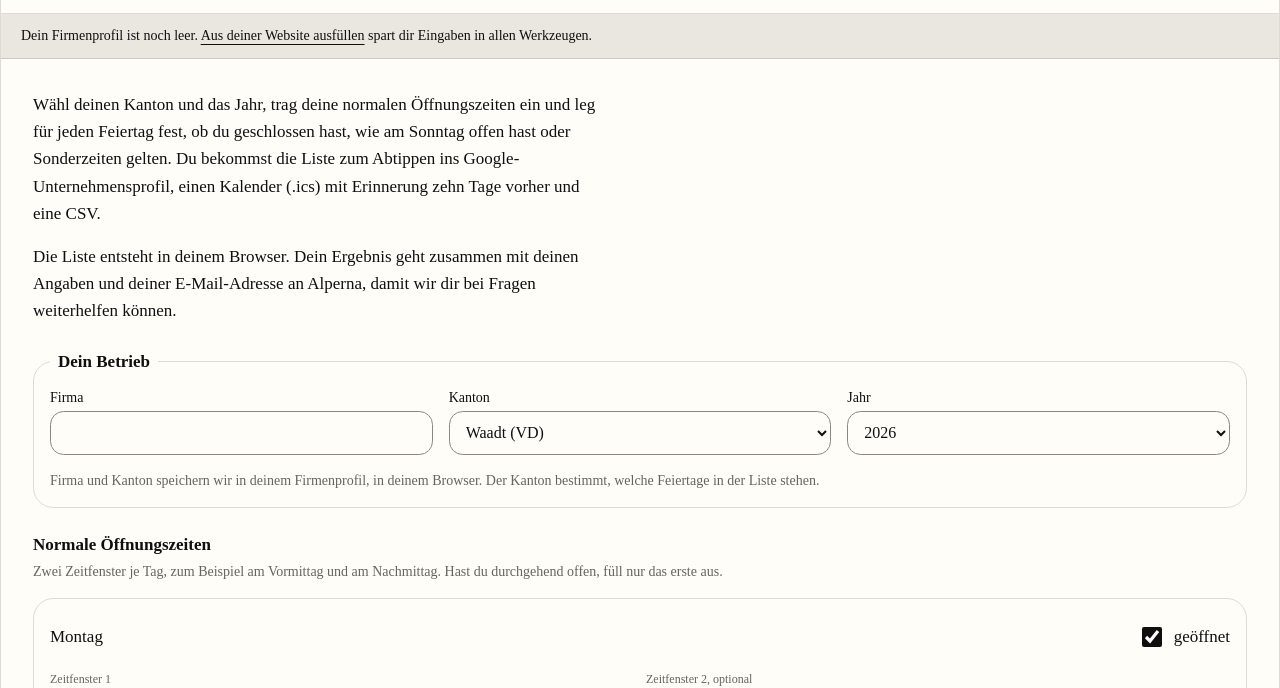
Scenario: Feiertagsplaner: Ergebnis › schreibt für die Waadt die neun Tage des Gesetzes, die auf Arbeitstage fallen, und nennt den Samstag-Feiertag extra
Select "2026" in the dropdown labelled "Jahr" at (1039, 433), box [847,411,1230,455]
(page scrolled)
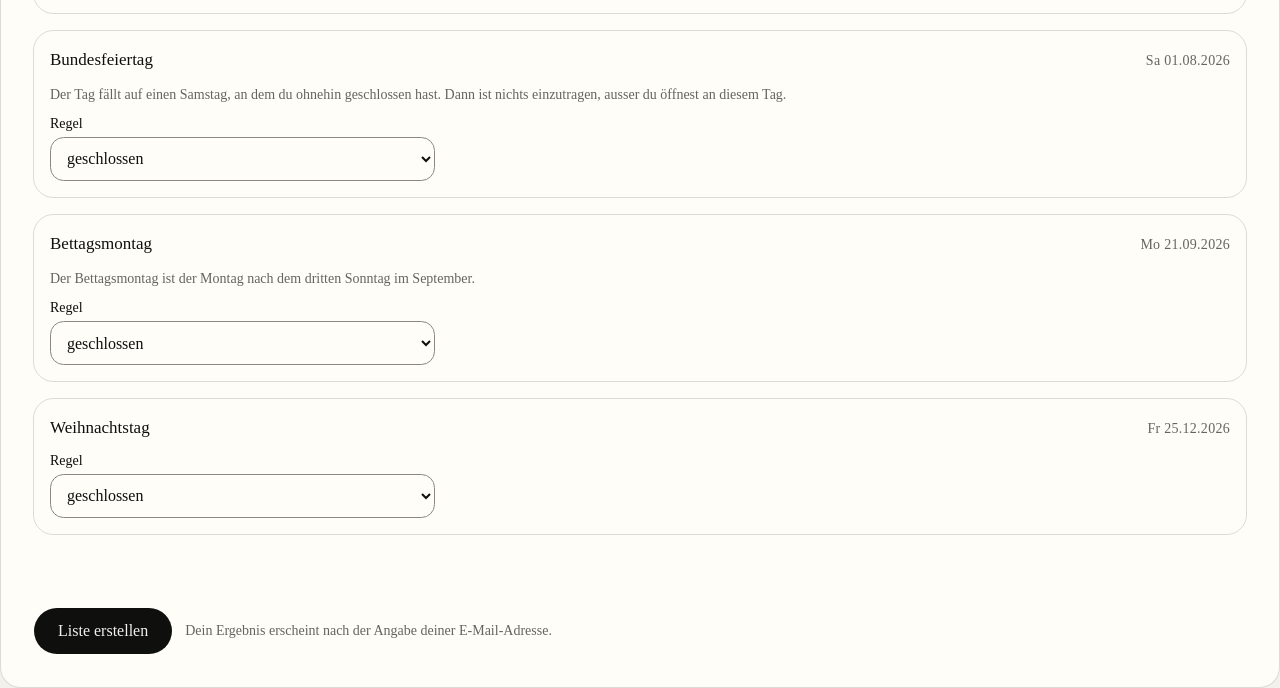
Click the button "Liste erstellen".
click(103, 631)  # box [33,607,173,655]
(page scrolled)
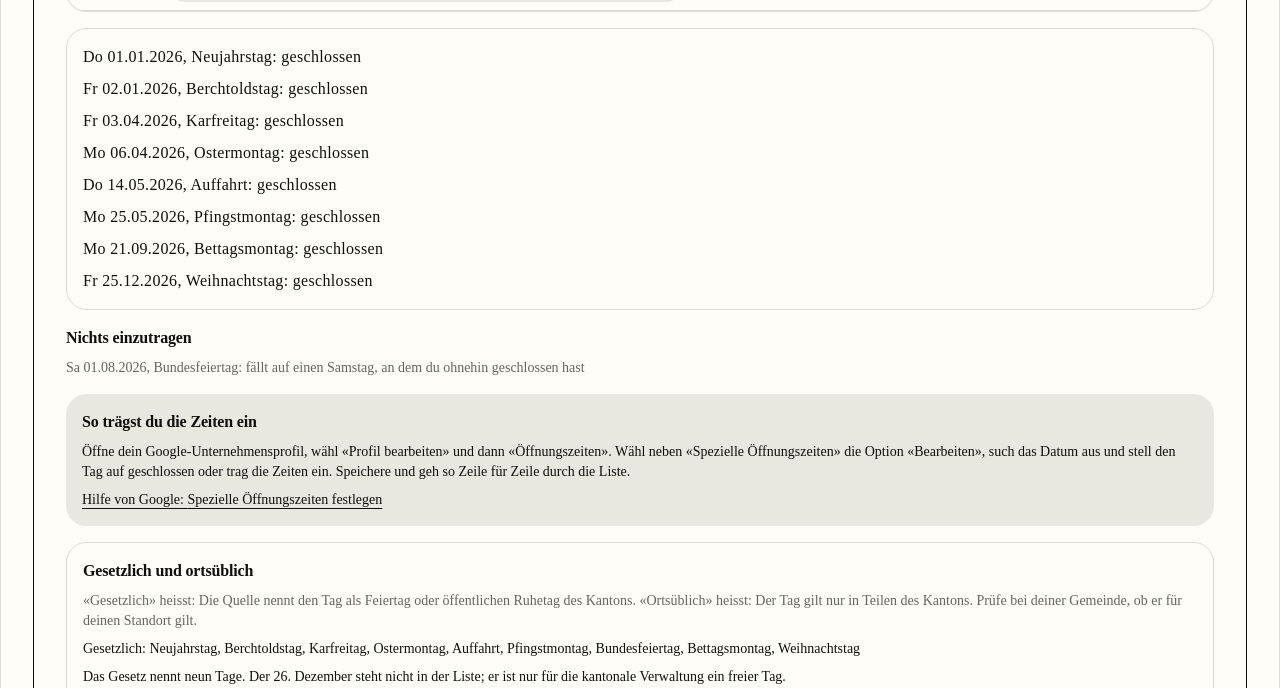
Check: the list named "Tage ohne Eintrag" shows "Sa 01.08.2026, Bundesfeiertag", box [66,360,585,375]
